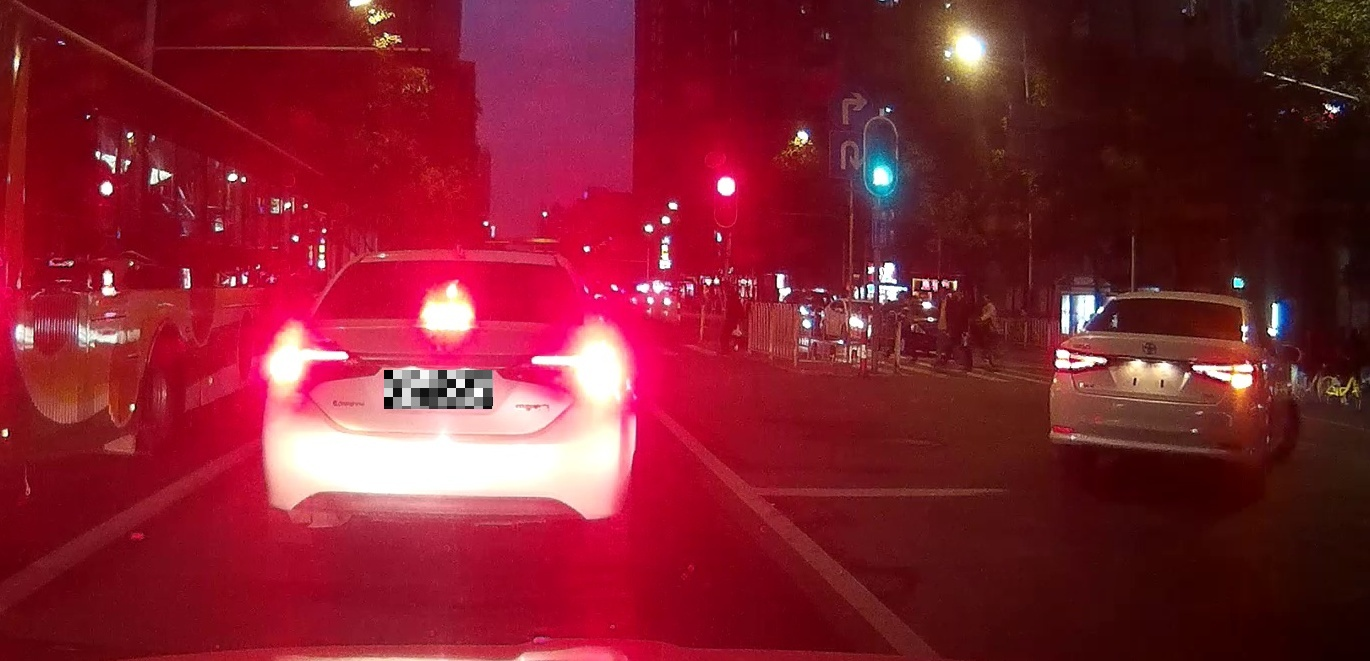L_light: (259, 337, 378, 395), (1054, 347, 1110, 371)
R_light: (499, 337, 624, 403)
T_light: (418, 298, 476, 321), (1155, 297, 1188, 307)
day-no: (1190, 360, 1258, 390)
night-brake: (261, 249, 626, 552)
night-right: (1049, 291, 1260, 499)
plate_1: (384, 370, 493, 409)
